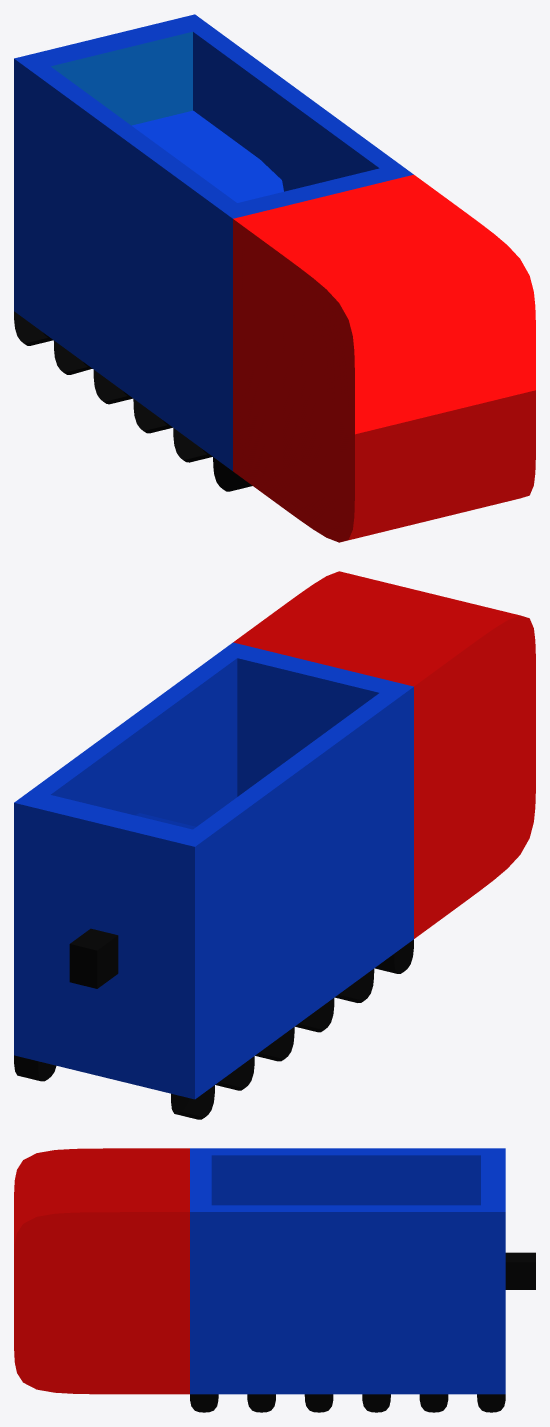
File: rollerCoasterModel.glb
3 views of the same model, one above another, from view 1: azimuth 30°, elevation 25°; view 2: azimuth 150°, elevation 25°; view 3: azimuth 270°, elevation 25° (orthographic). The views are drawn at different scales.
Parts seen in each view (by area): view 1: Cube; view 2: Cube; view 3: Cube.
Boxes of the visible parts, <box> form: Cube: <box>14,14,535,542</box>; Cube: <box>14,571,535,1119</box>; Cube: <box>14,1148,535,1412</box>.
Bounding box in the file's own units: 3 × 4.4 × 10.39.
